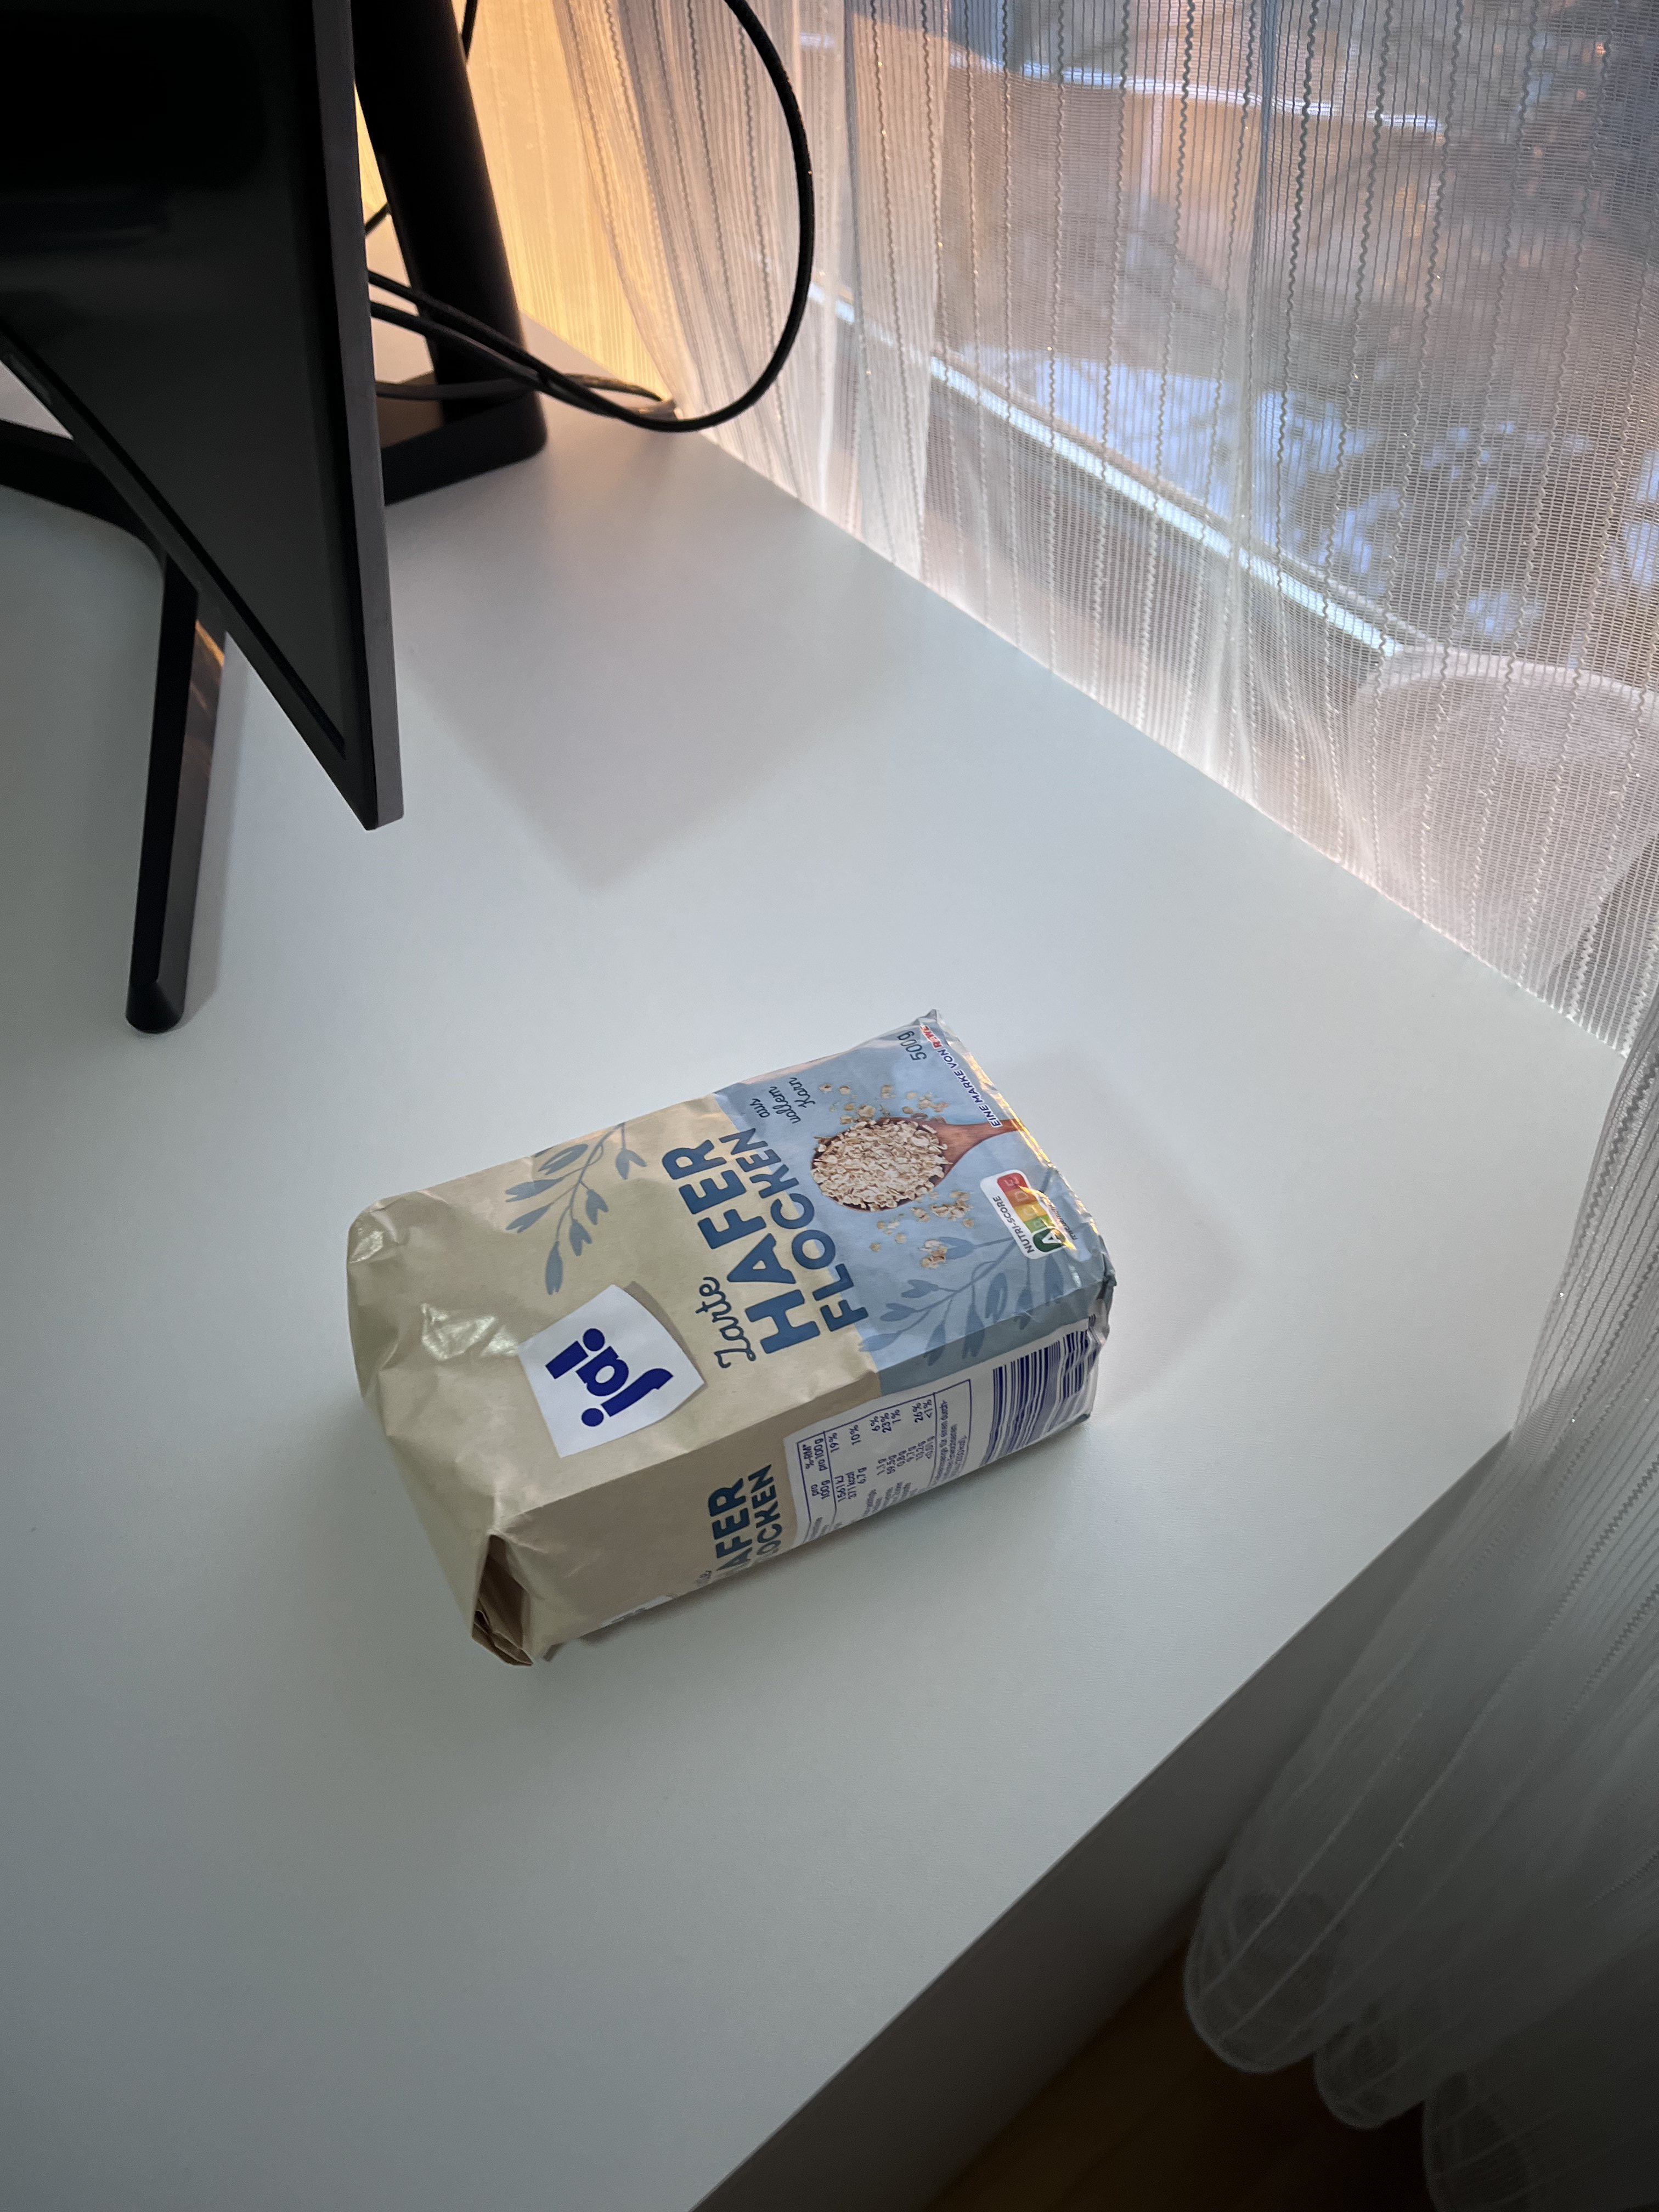haferflocken_ja: (347, 1008, 1115, 1663)
